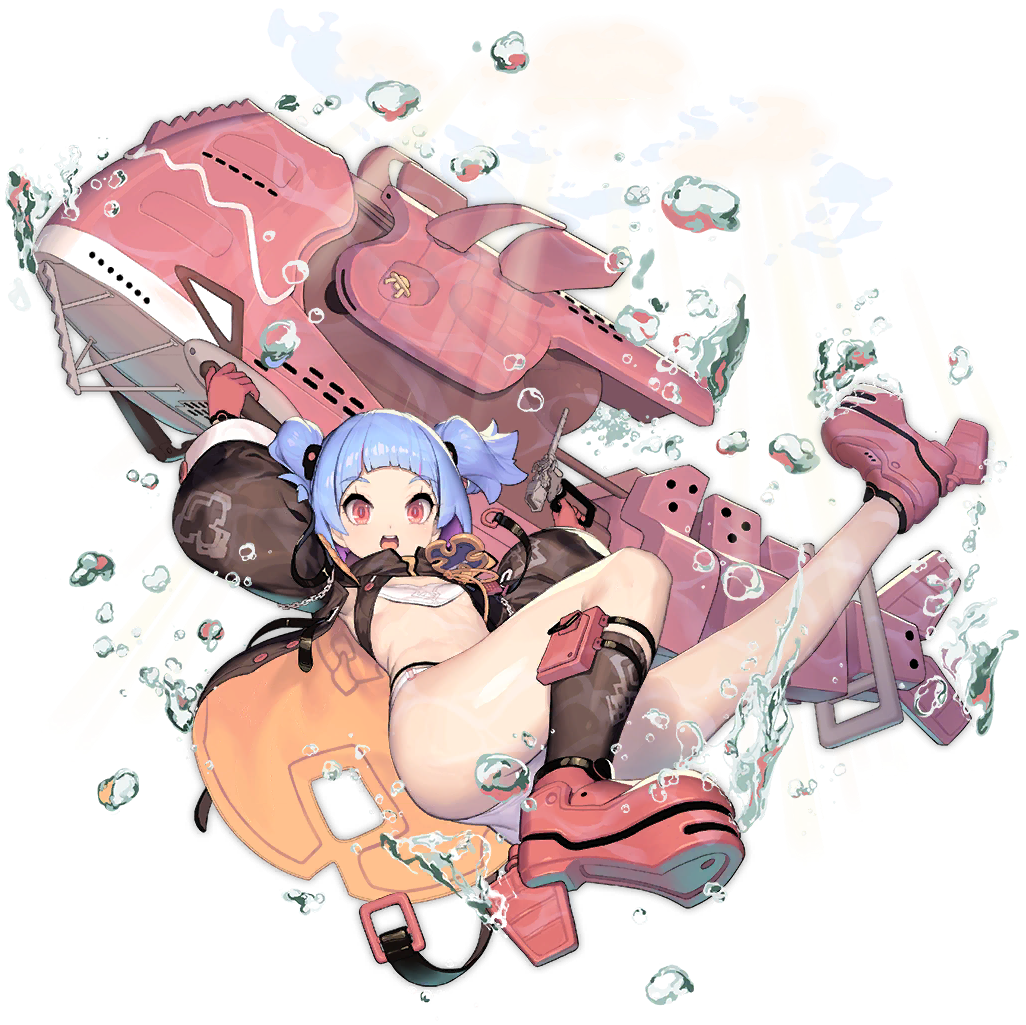person: (101, 329, 748, 976)
